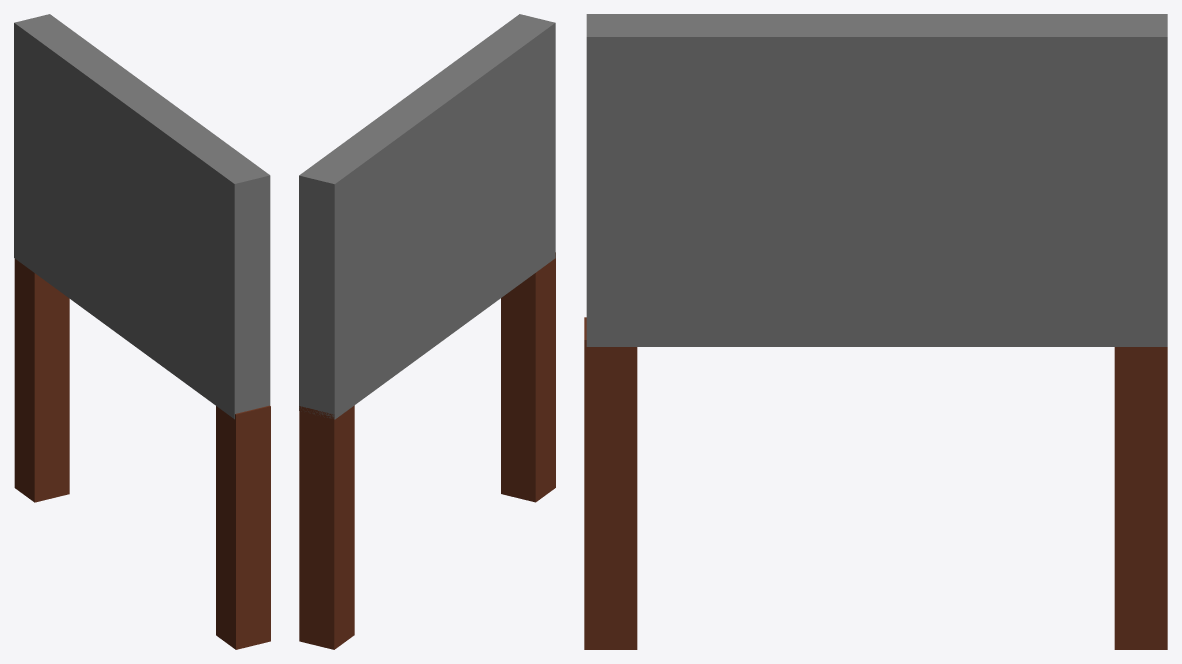
Rendered from RoadBlock.fbx.
3 views of the same model, side by side, from view 1: azimuth 30°, elevation 25°; view 2: azimuth 150°, elevation 25°; view 3: azimuth 270°, elevation 25° (orthographic). The views are drawn at different scales.
Parts seen in each view (by area): view 1: Cube.001, Cube; view 2: Cube.001, Cube; view 3: Cube.001, Cube.
Boxes of the visible parts, x1=… form: Cube.001: x1=14, y1=14, x2=270, y2=419; Cube: x1=14, y1=259, x2=270, y2=649; Cube.001: x1=299, y1=14, x2=555, y2=419; Cube: x1=299, y1=252, x2=555, y2=649; Cube.001: x1=586, y1=14, x2=1167, y2=346; Cube: x1=584, y1=317, x2=1167, y2=649.
Bounding box in the file's own units: 31.8 × 396 × 341.
